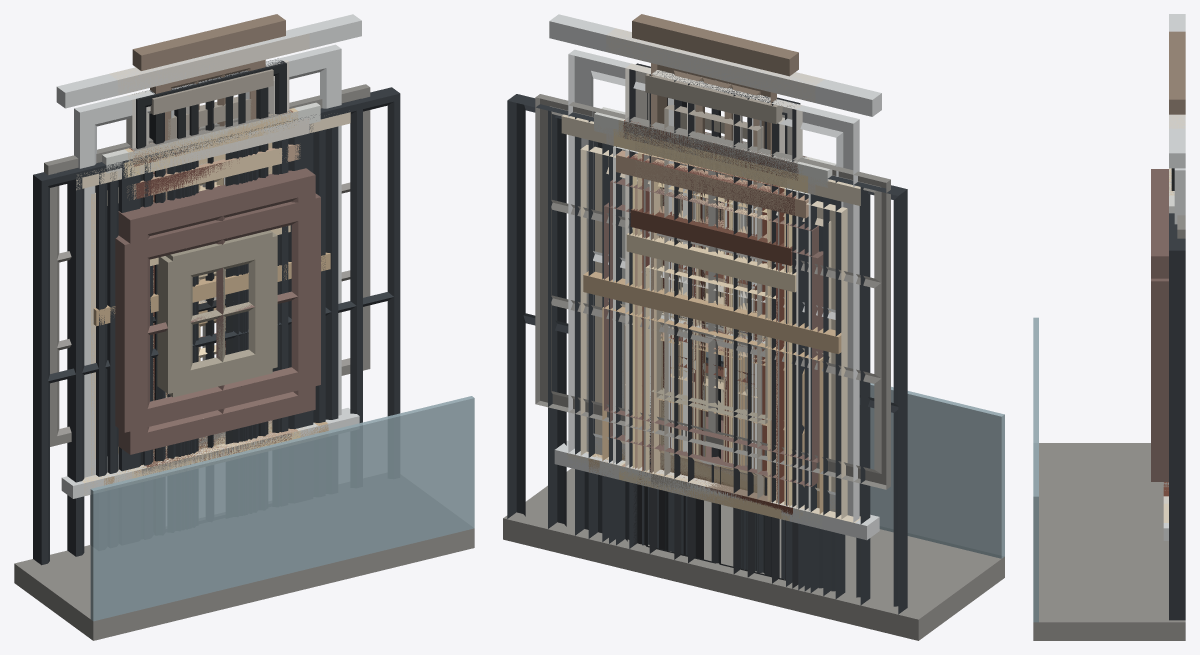
File: facade-kits.glb
The picture shows the model from 3 angles, left to right: view 1: azimuth 30°, elevation 25°; view 2: azimuth 150°, elevation 25°; view 3: azimuth 270°, elevation 25°; orthographic projection. The views are drawn at different scales.
Visible parts, largest first — view 1: kit_11, kit_16, kit_46, kit_13, kit_10, kit_47, kit_08, kit_84, kit_24, kit_22, kit_03, kit_25 (+20 smaller); view 2: kit_11, kit_13, kit_16, kit_10, kit_08, kit_15, kit_03, kit_12, kit_87, kit_09, kit_43, kit_29 (+25 smaller); view 3: kit_11, kit_10, kit_47, kit_46, kit_16, kit_13, kit_87, kit_03.
Boxes of the visible parts, box(x1,y1,x2,y2) form: kit_11: box(14, 84, 474, 640); kit_16: box(91, 396, 474, 620); kit_46: box(118, 168, 315, 454); kit_13: box(56, 14, 361, 498); kit_10: box(33, 87, 400, 565); kit_47: box(115, 193, 320, 432); kit_08: box(67, 99, 362, 556); kit_84: box(90, 126, 338, 544); kit_24: box(157, 232, 277, 393); kit_22: box(165, 230, 272, 397); kit_03: box(109, 29, 309, 480); kit_25: box(107, 108, 325, 473); kit_11: box(503, 94, 1004, 640); kit_13: box(549, 14, 881, 540); kit_16: box(706, 352, 1004, 558); kit_10: box(507, 94, 907, 614); kit_08: box(548, 107, 870, 605); kit_15: box(561, 114, 860, 522); kit_03: box(606, 28, 824, 511); kit_12: box(583, 271, 841, 513); kit_87: box(632, 14, 798, 502); kit_09: box(594, 107, 836, 528); kit_43: box(626, 233, 796, 521); kit_29: box(645, 73, 782, 498); kit_11: box(1033, 215, 1185, 640); kit_10: box(1169, 233, 1185, 620); kit_47: box(1151, 278, 1168, 461); kit_46: box(1151, 169, 1168, 481); kit_16: box(1033, 318, 1038, 621); kit_13: box(1163, 14, 1185, 540); kit_87: box(1169, 31, 1185, 114); kit_03: box(1163, 114, 1185, 503).
Bounding box in the file's own units: 3.06 × 3.87 × 1.1.
